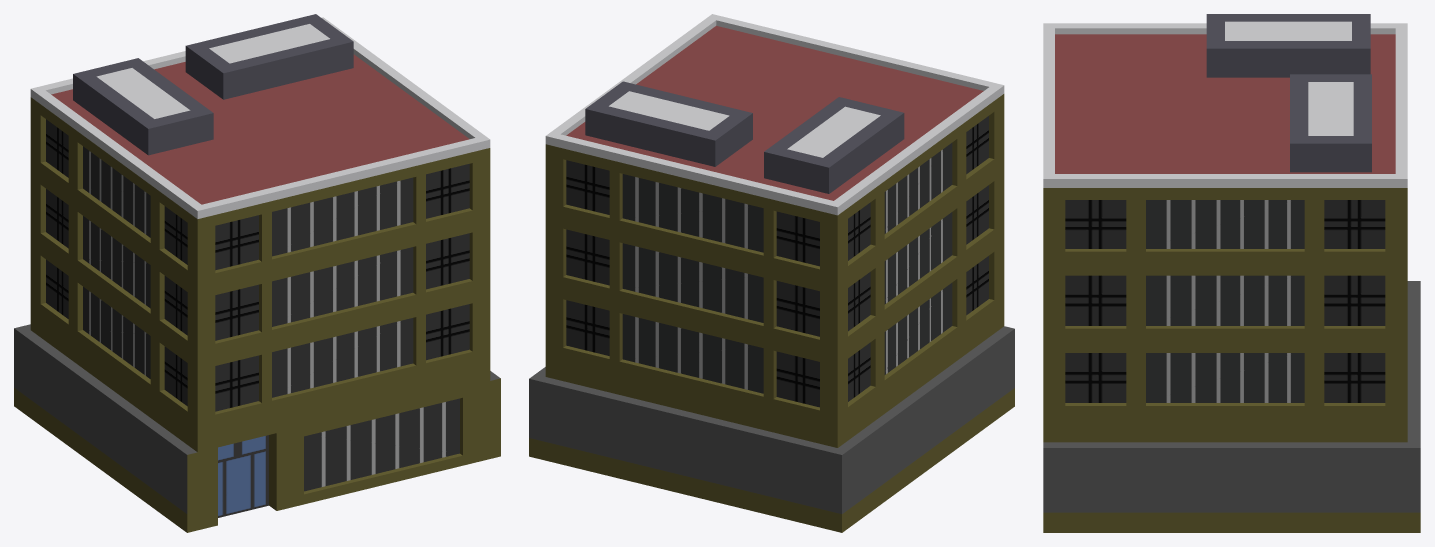
The model's file is building16c.FBX.
The picture shows the model from 3 angles, left to right: view 1: azimuth 30°, elevation 25°; view 2: azimuth 150°, elevation 25°; view 3: azimuth 270°, elevation 25°; orthographic projection. The views are drawn at different scales.
Visible parts, largest first — view 1: building16c; view 2: building16c; view 3: building16c.
Part boxes in pixels (x1,y1,x2,y2): building16c: (14,14,500,532); building16c: (529,14,1014,532); building16c: (1043,14,1420,532).
Size of the model in its own units: 21.4 by 22.19 by 20.45.
